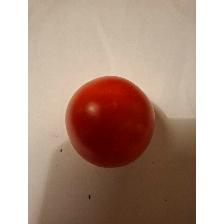Tomate: (61, 72, 158, 170)
